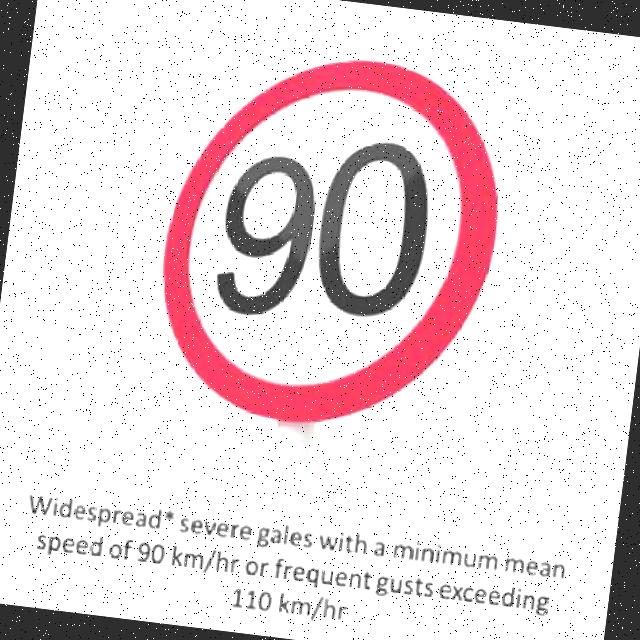Ograniczenie predkosci do 90: (146, 29, 513, 444)
